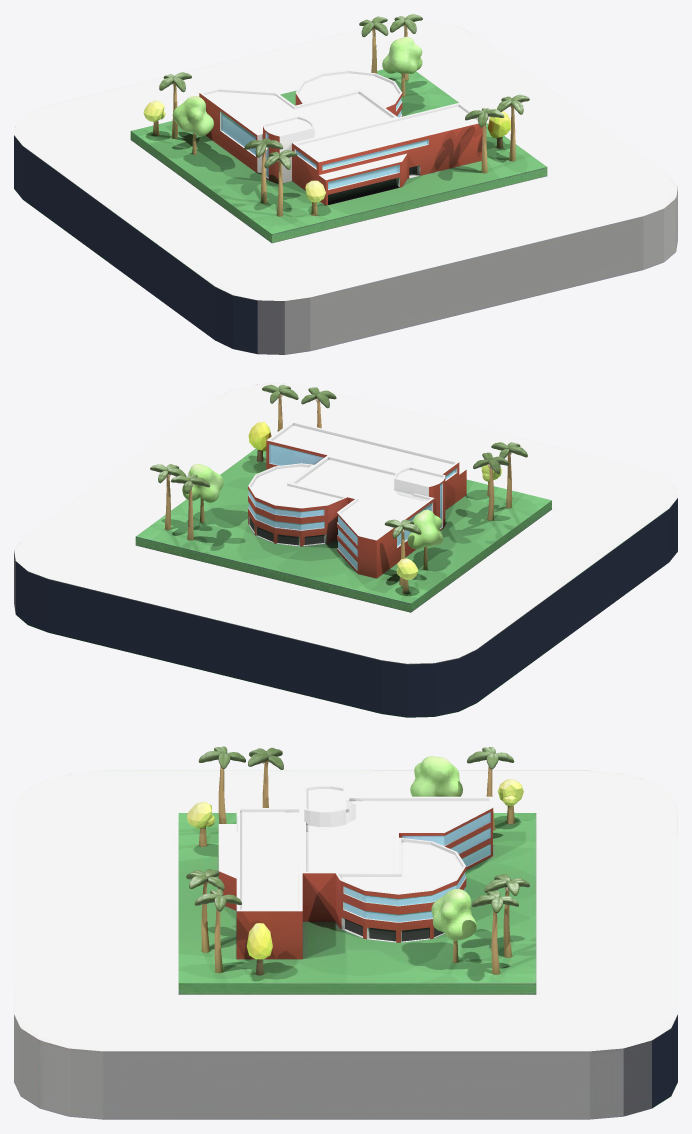
3 views of the same model, one above another, from view 1: azimuth 30°, elevation 25°; view 2: azimuth 150°, elevation 25°; view 3: azimuth 270°, elevation 25° (orthographic). The views are drawn at different scales.
Visible parts, largest first — view 1: Plane.011, 餐廳1, Cylinder.001; view 2: Plane.011, 餐廳1, Cylinder.001; view 3: Plane.011, 餐廳1, Cylinder.001.
Part boxes in pixels (<box>): Plane.011: <box>14,21,677,354</box>; 餐廳1: <box>199,70,482,205</box>; Cylinder.001: <box>143,14,529,216</box>; Plane.011: <box>14,383,677,717</box>; 餐廳1: <box>248,421,466,578</box>; Cylinder.001: <box>150,384,527,593</box>; Plane.011: <box>14,770,677,1119</box>; 餐廳1: <box>218,785,492,959</box>; Cylinder.001: <box>186,746,529,975</box>.
Size of the model in its own units: 15 by 3.93 by 15.
14 materials, 14 textured.
